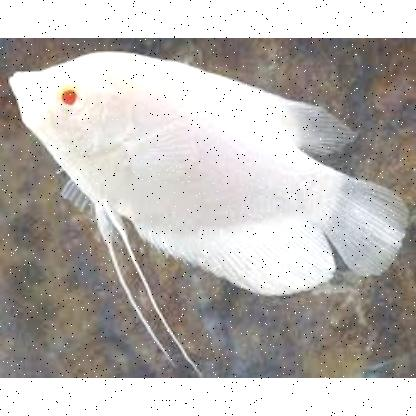gurame: (12, 47, 390, 289)
